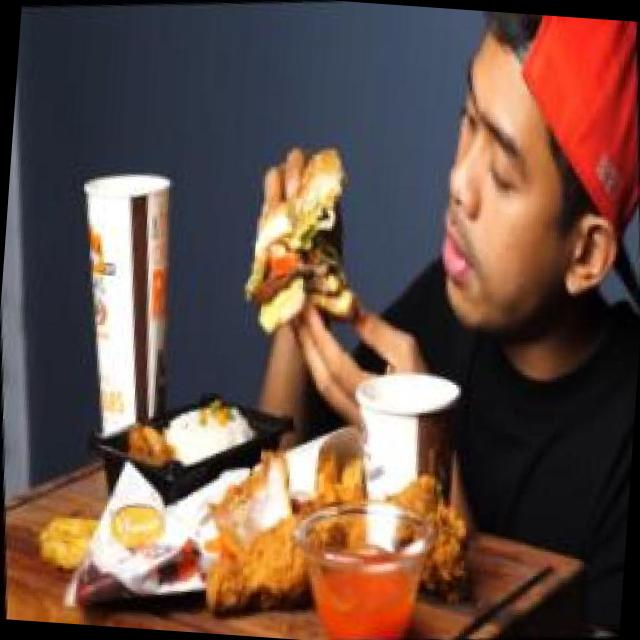AW cola: (59, 150, 201, 441)
black pepper rice bowl: (106, 366, 278, 505)
crispy corn: (340, 357, 482, 514)
fried chicken: (192, 410, 503, 625)
mozza burger: (218, 128, 395, 352)
perkedel: (34, 491, 112, 586)
